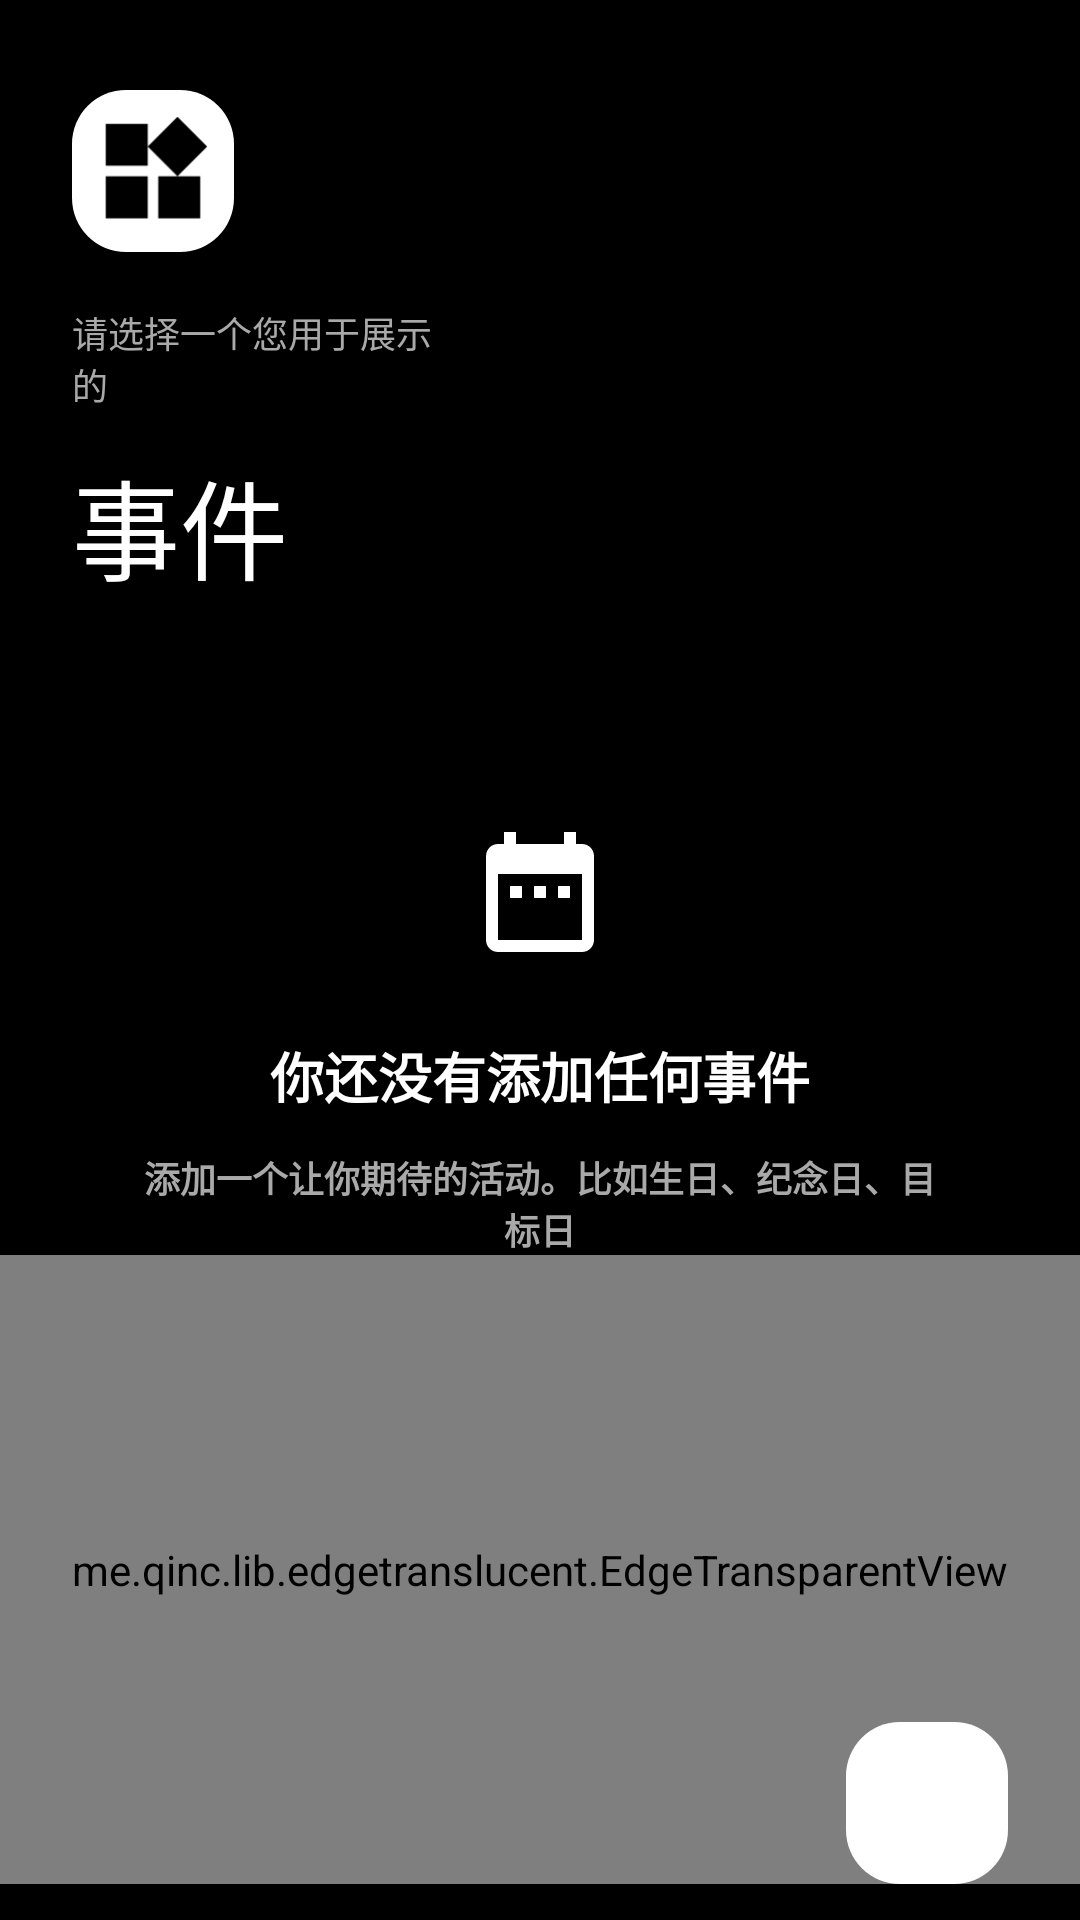

Named icons in this screenshot (1080 × 1920) and their centers, [x,y]:
date range: [540,892]
widgets: [153,171]
